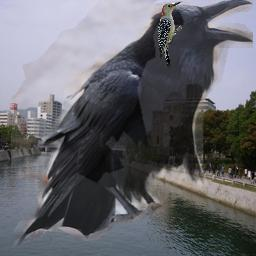Crow: (11, 0, 253, 250)
Woodpecker: (158, 0, 183, 71)
